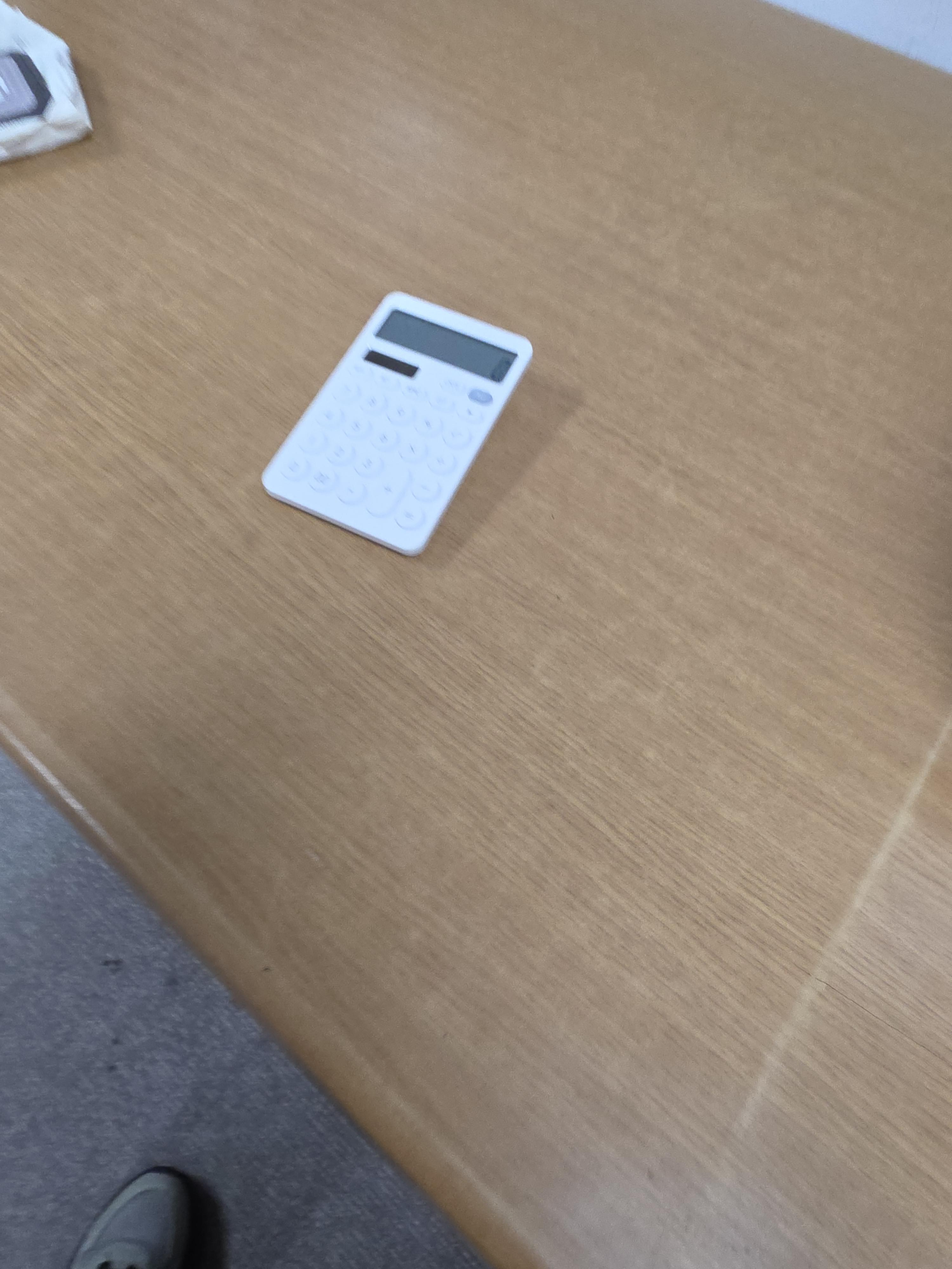calculator: (260, 291, 534, 557)
tissue: (0, 0, 94, 162)
